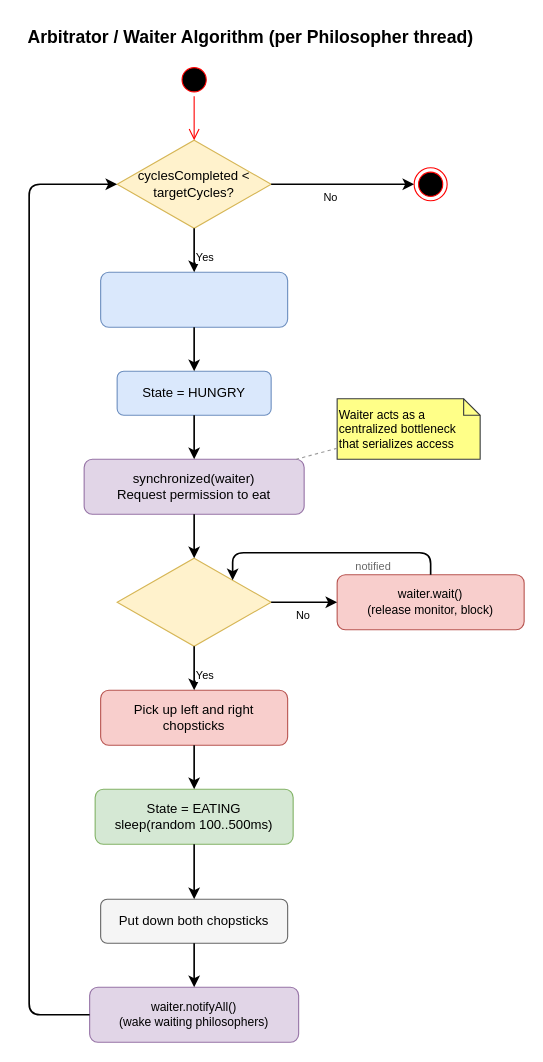
This 543x1062 diagram has some shape labels left out. Here are the shapes that lost their labels. From the top down, the centre of each, then its label:
At pixel 194 79: "Start".
At pixel 430 184: "End".
At pixel 194 299: "State = THINKING sleep(random 100..500ms)".
At pixel 193 601: "Both chopsticks free?".
